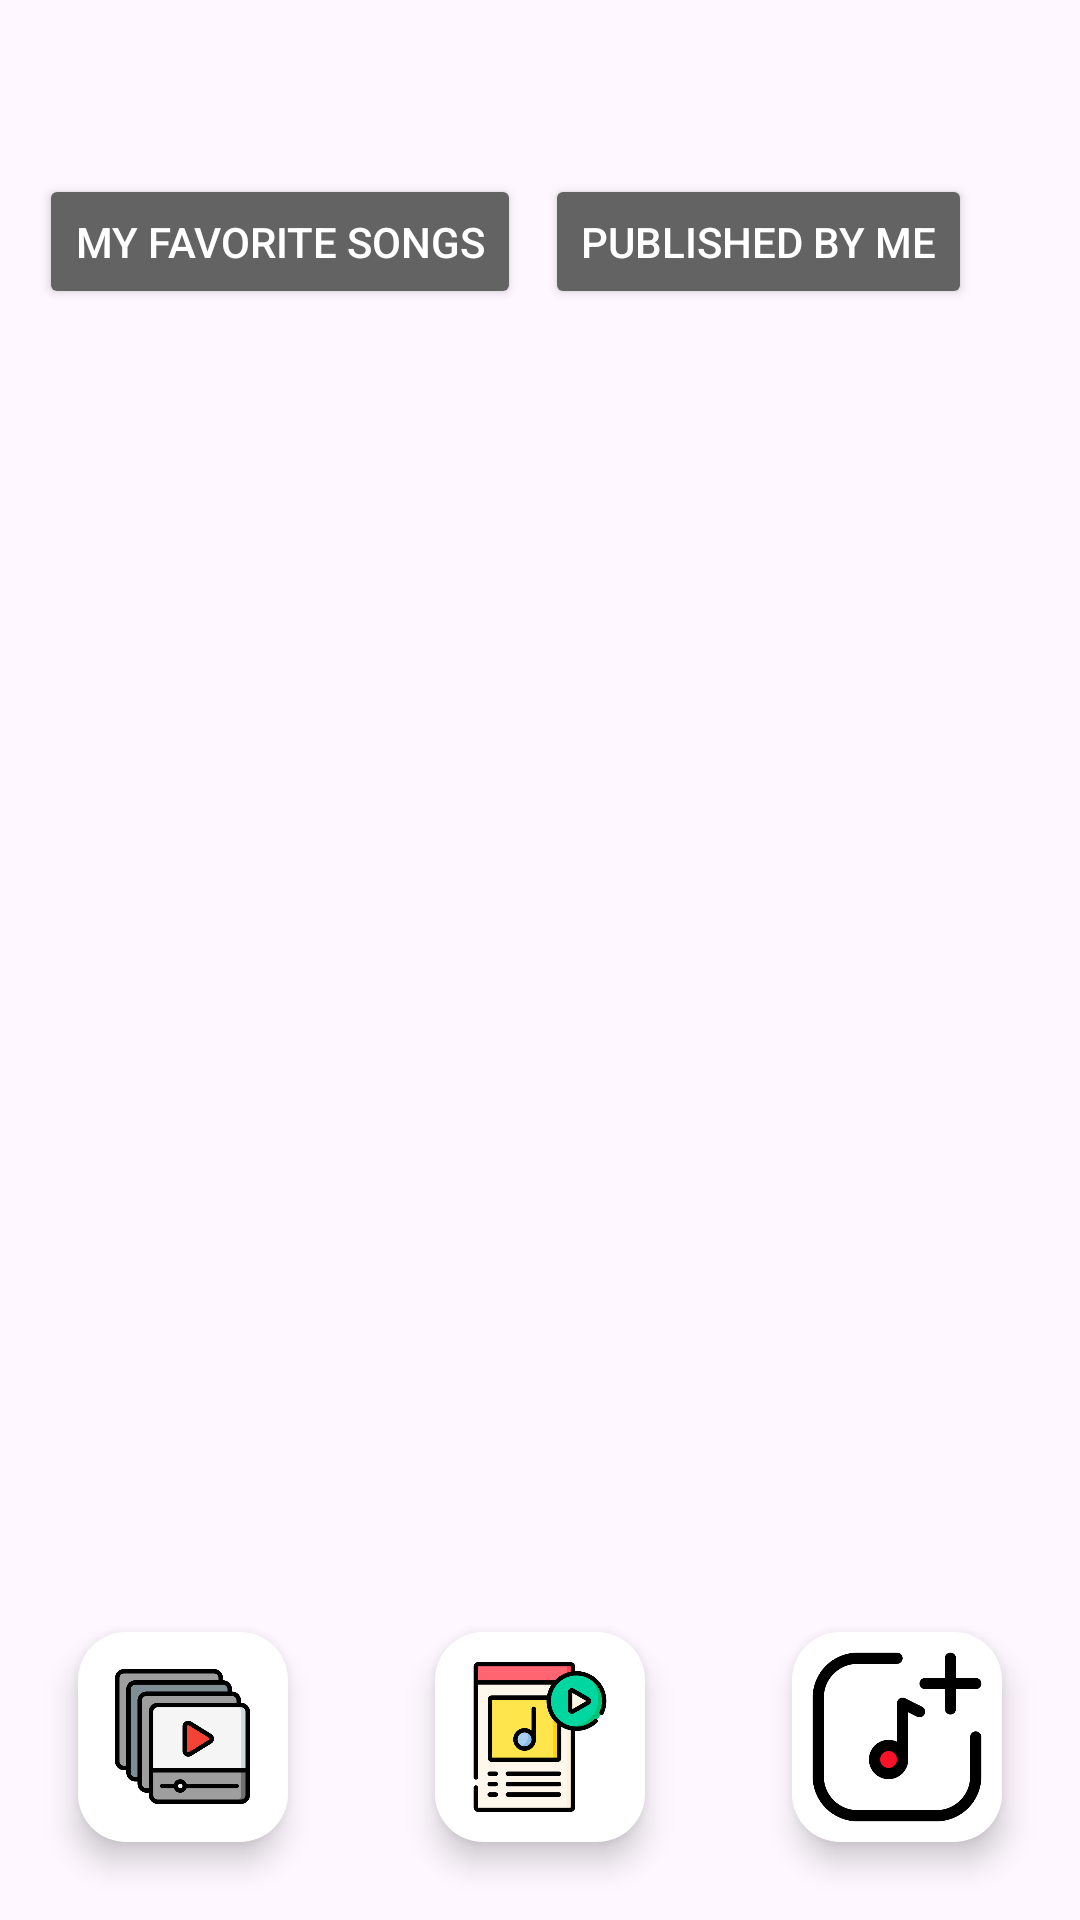

Where icons sit on this 1080*1920 app screen, as rect(x1, y1, x2, y2):
add song: rect(792, 1632, 1002, 1842)
